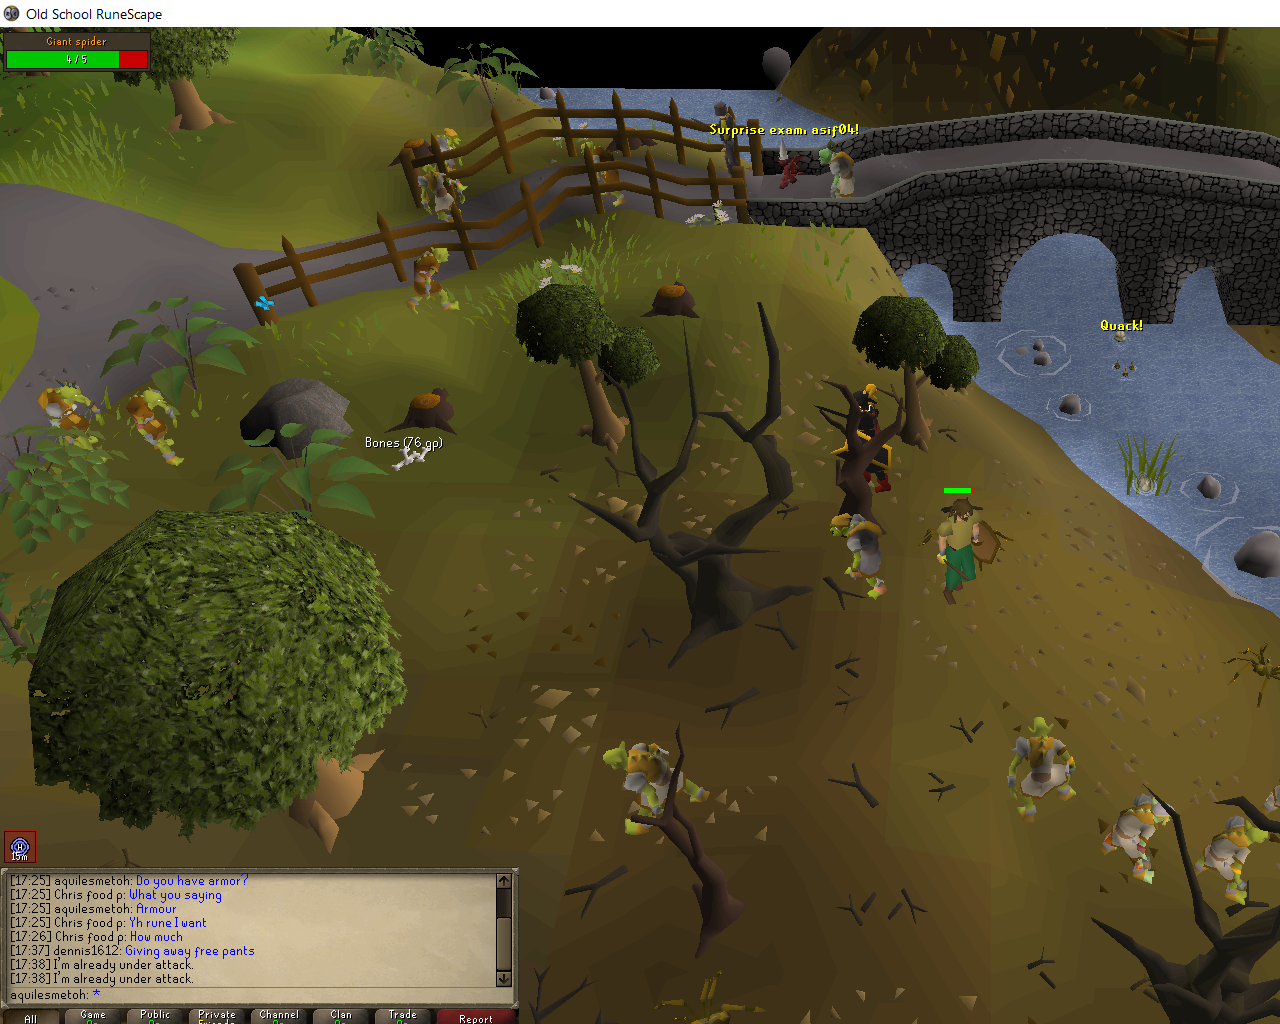Goblin: (594, 734, 719, 836), (994, 711, 1083, 818), (1190, 814, 1277, 912), (1099, 788, 1176, 894), (34, 380, 114, 473), (119, 388, 201, 474), (830, 509, 897, 605), (406, 245, 463, 319), (576, 138, 630, 212), (811, 142, 872, 207), (412, 165, 471, 230), (423, 126, 475, 195)
